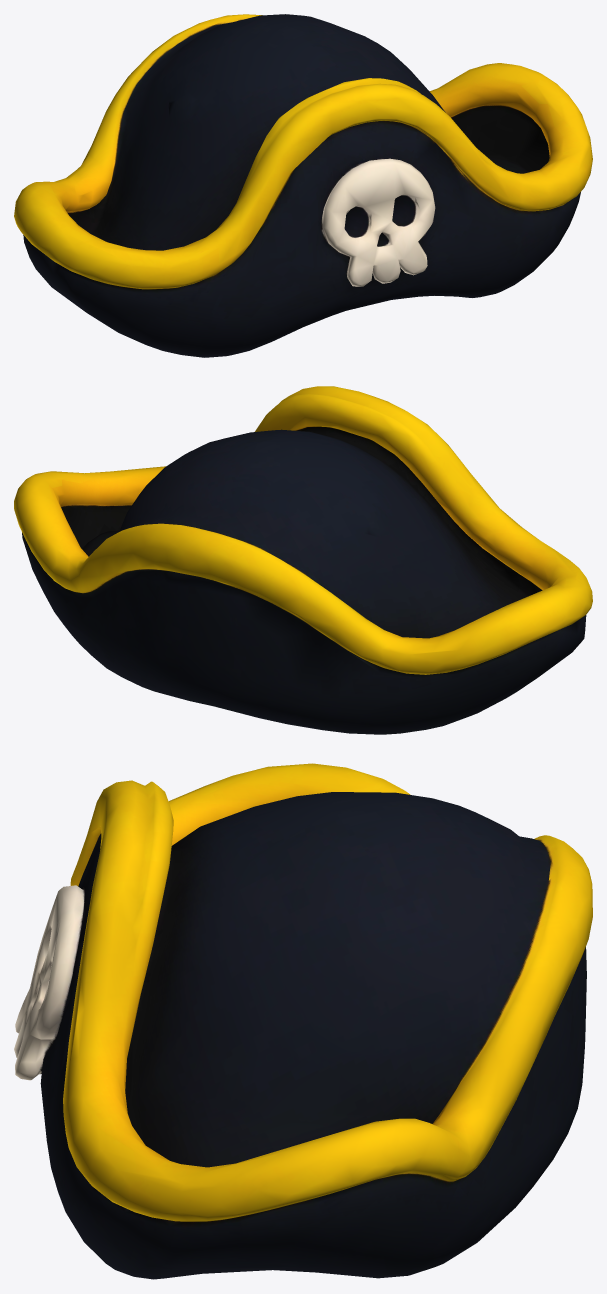
The model's file is hoophat.glb.
3 views of the same model, one above another, from view 1: azimuth 30°, elevation 25°; view 2: azimuth 150°, elevation 25°; view 3: azimuth 270°, elevation 25° (orthographic). The views are drawn at different scales.
Parts seen in each view (by area): view 1: hoophat; view 2: hoophat; view 3: hoophat.
Part boxes in pixels (<box>): hoophat: <box>14,14,592,357</box>; hoophat: <box>14,386,592,734</box>; hoophat: <box>14,763,592,1279</box>.
Bounding box in the file's own units: 0.9507 × 0.3869 × 0.5768.
1 material, 1 textured.
